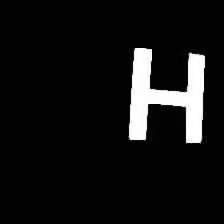LTR_H: (119, 35, 210, 152)
